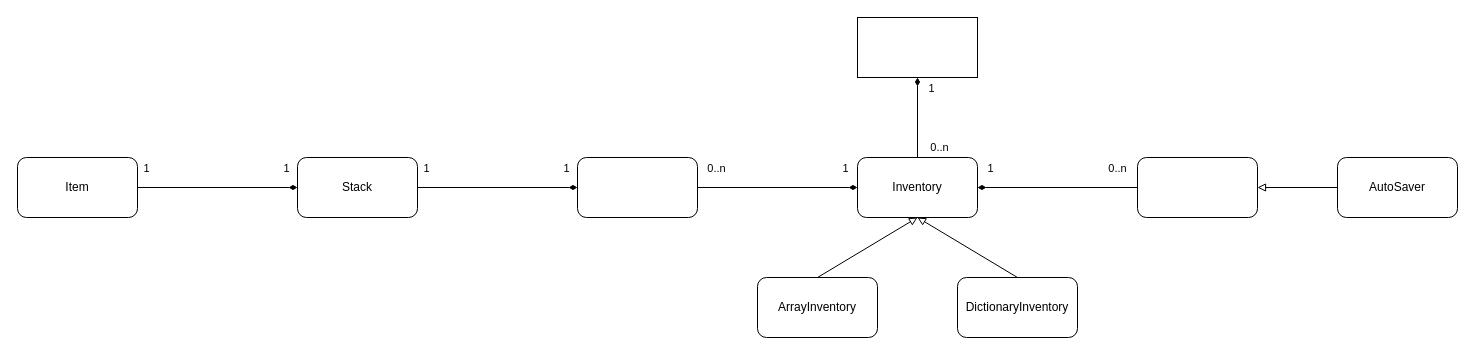
The diagram is 1475 pixels wide and 355 high, and some of its shapes have lost their labels. Each missing label, with the centre of its shape:
"InventoriesHolder" belongs at [917,47].
"InventoryComponent" belongs at [1197,187].
"Slot" belongs at [637,187].
